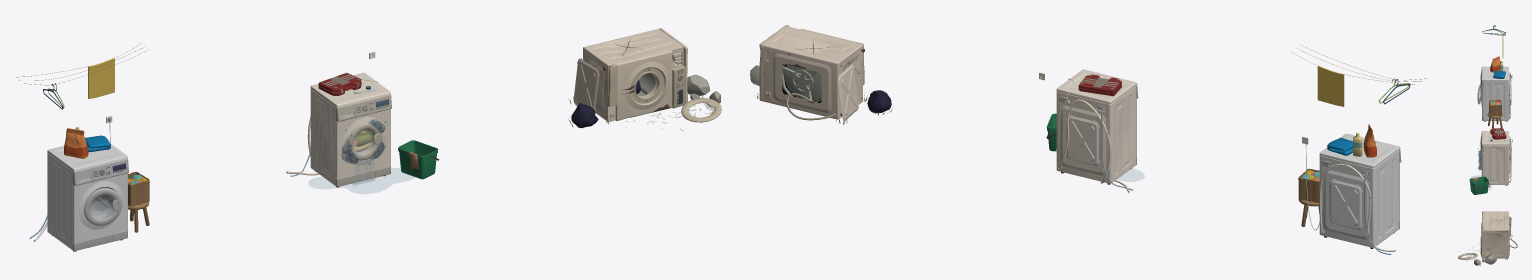
Rendered from Imported-Washing.glb.
3 views of the same model, side by side, from view 1: azimuth 30°, elevation 25°; view 2: azimuth 150°, elevation 25°; view 3: azimuth 270°, elevation 25° (orthographic). The views are drawn at different scales.
Visible parts, largest first — view 1: 02_Washing-machine_Material #706_0, 01_Washing-machine_Material #31_0, 03_Washing-Machine_Machine_03_0, 03_Washing-Machine_Material #1291_0, 01_Washing-machine_Machine_01_0, 02_Washing-machine_Machine_02_0, 03_Washing-Machine_Material #1296_0, 02_Overflow_Material #590_0, 01_Washing-machine_Material #30_0, 02_Washing-machine_Material #707_0, 02_Props-group_02_Material #676_0, 03_Backdoor_Machine_03_0 (+8 smaller); view 2: 02_Washing-machine_Machine_02_0, 01_Washing-machine_Machine_01_0, 03_Washing-Machine_Machine_03_0, 02_Washing-machine_Material #706_0, 01_Washing-machine_Material #31_0, 01_Clothes-dryer_Material #588_0, 03_Backdoor_Machine_03_0, 03_Drum_Material #1662_0, 03_Drum_Material #1292_0, 02_Props-group_01_Material #678_0, 02_Hoses_Material #710_0, 01_Hoses_Material #37_0 (+2 smaller); view 3: 02_Washing-machine_Machine_02_0, 03_Washing-Machine_Material #1291_0, 01_Washing-machine_Machine_01_0, 03_Washing-Machine_Machine_03_0, 01_Washing-machine_Material #31_0, 02_Washing-machine_Material #706_0, 02_Props-group_02_Material #676_0, 02_Props-group_01_Material #678_0, 03_Rocks_Material #687_0, 01_Props-group_02_Material #408_0, 03_Door_Material #1296_0, 01_Props-group_01_Material #412_0 (+14 smaller).
Boxes of the visible parts, <box> form: 02_Washing-machine_Material #706_0: <box>310,72,390,179</box>; 01_Washing-machine_Material #31_0: <box>47,143,127,243</box>; 03_Washing-Machine_Machine_03_0: <box>583,29,683,121</box>; 03_Washing-Machine_Material #1291_0: <box>615,28,687,120</box>; 01_Washing-machine_Machine_01_0: <box>47,153,72,249</box>; 02_Washing-machine_Machine_02_0: <box>310,89,335,185</box>; 03_Washing-Machine_Material #1296_0: <box>608,63,685,118</box>; 02_Overflow_Material #590_0: <box>308,157,415,194</box>; 01_Washing-machine_Material #30_0: <box>72,159,128,251</box>; 02_Washing-machine_Material #707_0: <box>335,95,391,186</box>; 02_Props-group_02_Material #676_0: <box>398,140,438,179</box>; 03_Backdoor_Machine_03_0: <box>573,58,599,111</box>; 02_Washing-machine_Machine_02_0: <box>1056,86,1135,183</box>; 01_Washing-machine_Machine_01_0: <box>1319,150,1398,247</box>; 03_Washing-Machine_Machine_03_0: <box>762,26,863,119</box>; 02_Washing-machine_Material #706_0: <box>1056,69,1137,157</box>; 01_Washing-machine_Material #31_0: <box>1319,133,1400,221</box>; 01_Clothes-dryer_Material #588_0: <box>1317,65,1344,106</box>; 03_Backdoor_Machine_03_0: <box>837,64,858,121</box>; 03_Drum_Material #1662_0: <box>782,64,821,102</box>; 03_Drum_Material #1292_0: <box>784,64,821,101</box>; 02_Props-group_01_Material #678_0: <box>1078,74,1121,96</box>; 02_Hoses_Material #710_0: <box>1058,99,1129,192</box>; 01_Hoses_Material #37_0: <box>1319,163,1395,251</box>; 02_Washing-machine_Machine_02_0: <box>1483,142,1510,184</box>; 03_Washing-Machine_Material #1291_0: <box>1481,213,1508,258</box>; 01_Washing-machine_Machine_01_0: <box>1483,81,1510,120</box>; 03_Washing-Machine_Machine_03_0: <box>1483,211,1509,250</box>; 01_Washing-machine_Material #31_0: <box>1481,66,1508,116</box>; 02_Washing-machine_Material #706_0: <box>1481,131,1508,176</box>; 02_Props-group_02_Material #676_0: <box>1469,176,1488,194</box>; 02_Props-group_01_Material #678_0: <box>1490,128,1506,139</box>; 03_Rocks_Material #687_0: <box>1474,253,1496,265</box>; 01_Props-group_02_Material #408_0: <box>1489,100,1501,116</box>; 03_Door_Material #1296_0: <box>1458,253,1477,259</box>; 01_Props-group_01_Material #412_0: <box>1493,70,1505,78</box>.
Size of what is drawn, in the model's own units: 7.38 by 1.81 by 1.18.
